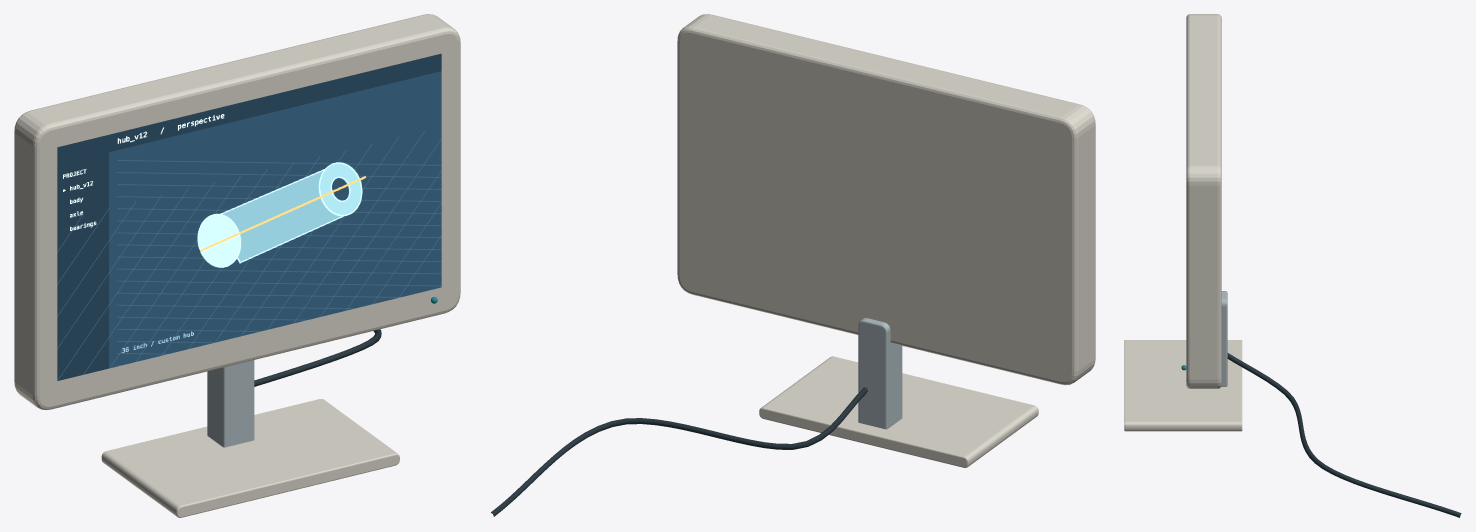
The model's file is monitor.glb.
The picture shows the model from 3 angles, left to right: view 1: azimuth 30°, elevation 25°; view 2: azimuth 150°, elevation 25°; view 3: azimuth 270°, elevation 25°; orthographic projection. The views are drawn at different scales.
Parts seen in each view (by area): view 1: monitor; view 2: monitor; view 3: monitor.
Boxes of the visible parts, bbox=[...] form: monitor: bbox=[14, 14, 460, 517]; monitor: bbox=[491, 14, 1095, 516]; monitor: bbox=[1124, 14, 1461, 517].
Bounding box in the file's own units: 1.44 × 1.23 × 1.14.
5 materials, 1 textured.
